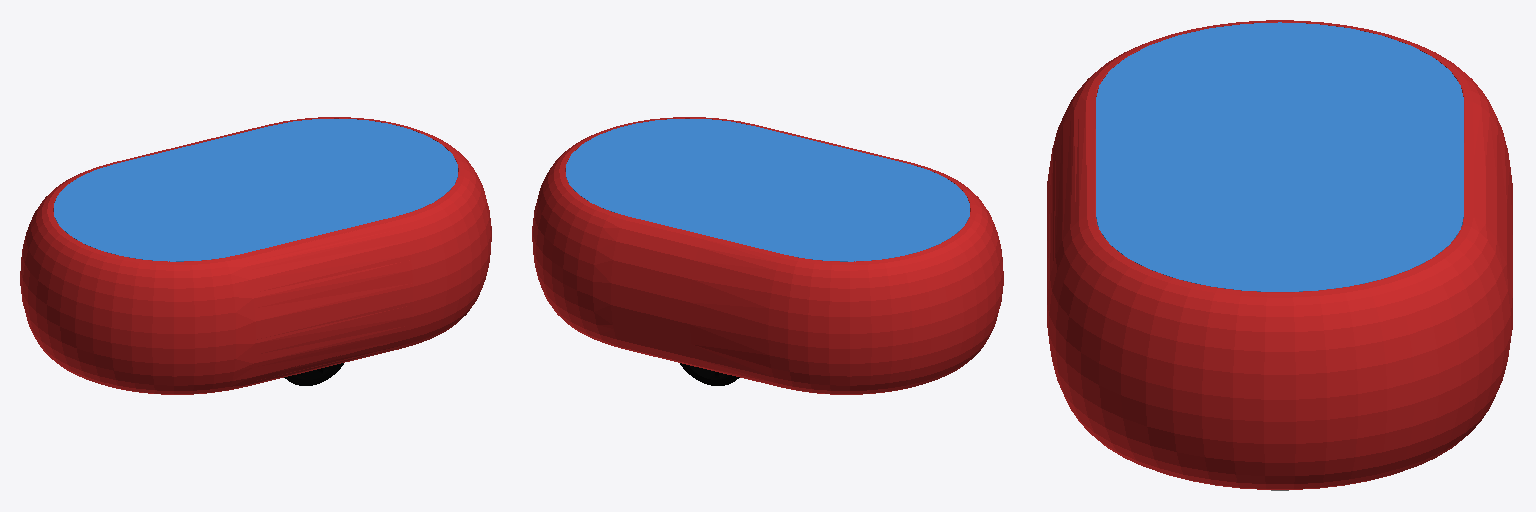
The robot description file, URDF, robot "mobile_robot":
<?xml version="1.0" encoding="utf-8"?>
<!-- This URDF was automatically created by SolidWorks to URDF Exporter! Originally created by [author] ([email redacted]) 
     Commit Version: 1.6.0-4-g7f85cfe  Build Version: 1.6.7995.38578
     For more information, please see http://wiki.ros.org/sw_urdf_exporter -->
<robot
  name="mobile_robot">
  <link
    name="base_link">
    <inertial>
      <origin
        xyz="-5.6012E-06 -2.2204E-16 0.042753"
        rpy="0 0 0" />
      <mass
        value="10.0" />
      <inertia
        ixx="1.8217"
        ixy="-9.2827E-16"
        ixz="-1.2537E-05"
        iyy="4.1378"
        iyz="-4.2401E-15"
        izz="5.2895" />
    </inertial>
    <visual>
      <origin
        xyz="0 0 0"
        rpy="0 0 0" />
      <geometry>
        <mesh filename="package://mobile_robot/meshes/base_link.STL" scale="1.0 1.0 1.0"/>
      </geometry>
      <material
        name="">
        <color
          rgba="0.2 0.5 0.8 1" />
      </material>
    </visual>
    <collision>
      <origin
        xyz="0 0 0.05"
        rpy="0 0 0" />
      <geometry>
        <box size="1.0 0.6 0.1"/>
      </geometry>
    </collision>
  </link>
  <link
    name="leftWheeltLink">
    <inertial>
      <origin
        xyz="3.8308E-13 1.763E-13 1.1203E-07"
        rpy="0 0 0" />
      <mass
        value="9.0457" />
      <inertia
        ixx="0.063134"
        ixy="-2.9772E-11"
        ixz="-7.331E-14"
        iyy="0.063134"
        iyz="1.2811E-14"
        izz="0.03752097" />
    </inertial>
    <visual>
      <origin
        xyz="0 0 0"
        rpy="1.5708 0 0" />
      <geometry>
        <mesh filename="package://mobile_robot/meshes/leftWheeltLink.STL" scale="1.0 1.0 1.0"/>
      </geometry>
      <material
        name="">
        <color
          rgba="0.0375 0.0375 0.0375 1" />
      </material>
    </visual>
    <collision>
      <origin
        xyz="0 0 0"
        rpy="1.5708 0 0" />
      <geometry>
        <cylinder radius="0.0375" length="0.05"/>
      </geometry>
      <surface>
        <friction>
          <ode>
            <mu>2.5</mu>
            <mu2>2.5</mu2>
            <fdir1>1 0 0</fdir1>
            <slip1>0.0</slip1>
            <slip2>0.0</slip2>
          </ode>
        </friction>
        <contact>
          <ode>
            <kp>1000000.0</kp>
            <kd>1000.0</kd>
            <min_depth>0.001</min_depth>
            <max_vel>10.0</max_vel>
          </ode>
        </contact>
      </surface>
    </collision>
  </link>
  <joint
    name="leftWheelJoint"
    type="continuous">
    <origin
      xyz="0 0.325 0.0375"
      rpy="0 0 0" />
    <parent
      link="base_link" />
    <child
      link="leftWheeltLink" />
    <axis
      xyz="0 1 0" />
    <limit
      effort="100"
      velocity="10" />
    <dynamics
      friction="0.1" 
      damping="0.5" />
  </joint>
  <link
    name="rightWheelLink">
    <inertial>
      <origin
        xyz="-8.5487E-14 -4.1323E-13 -1.1203E-07"
        rpy="0 0 0" />
      <mass
        value="9.0457" />
      <inertia
        ixx="0.063134"
        ixy="-2.941E-11"
        ixz="2.9021E-14"
        iyy="0.063134"
        iyz="-6.8537E-14"
        izz="0.03752097" />
    </inertial>
    <visual>
      <origin
        xyz="0 0 0"
        rpy="1.5708 0 0" />
      <geometry>
        <mesh filename="package://mobile_robot/meshes/rightWheelLink.STL" scale="1.0 1.0 1.0"/>
      </geometry>
      <material
        name="">
        <color
          rgba="0.0375 0.0375 0.0375 1" />
      </material>
    </visual>
    <collision>
      <origin
        xyz="0 0 0"
        rpy="1.5708 0 0" />
      <geometry>
        <cylinder radius="0.0375" length="0.05"/>
      </geometry>
      <surface>
        <friction>
          <ode>
            <mu>2.5</mu>
            <mu2>2.5</mu2>
            <fdir1>1 0 0</fdir1>
            <slip1>0.0</slip1>
            <slip2>0.0</slip2>
          </ode>
        </friction>
        <contact>
          <ode>
            <kp>1000000.0</kp>
            <kd>1000.0</kd>
            <min_depth>0.001</min_depth>
            <max_vel>10.0</max_vel>
          </ode>
        </contact>
      </surface>
    </collision>
  </link>
  <joint
    name="rightWheelJoint"
    type="continuous">
    <origin
      xyz="0 -0.325 0.0375"
      rpy="0 0 0" />
    <parent
      link="base_link" />
    <child
      link="rightWheelLink" />
    <axis
      xyz="0 1 0" />
    <limit
      effort="100"
      velocity="10" />
    <dynamics
      friction="0.1" 
      damping="0.5" />
  </joint>
  <link
    name="frontCasterLink">
    <inertial>
      <origin
        xyz="1.1102E-16 -4.4409E-16 0.095922"
        rpy="0 0 0" />
      <mass
        value="7.8759" />
      <inertia
        ixx="0.053362"
        ixy="-1.0187E-17"
        ixz="-2.0544E-17"
        iyy="0.053362"
        iyz="1.0521E-18"
        izz="0.046393" />
    </inertial>
    <visual>
      <origin
        xyz="0 0 0"
        rpy="0 0 0" />
      <geometry>
        <mesh filename="package://mobile_robot/meshes/frontCasterLink.STL" scale="1.0 1.0 1.0"/>
      </geometry>
      <material
        name="">
        <color
          rgba="0.6 0.6 0.6 1" />
      </material>
    </visual>
    <collision>
      <origin
        xyz="0 0 0.05"
        rpy="0 0 0" />
      <geometry>
        <cylinder radius="0.025" length="0.1"/>
      </geometry>
      <surface>
        <friction>
          <ode>
            <mu>0.01</mu>
            <mu2>0.01</mu2>
            <slip1>0.5</slip1>
            <slip2>0.5</slip2>
          </ode>
        </friction>
        <contact>
          <ode>
            <kp>100000.0</kp>
            <kd>100.0</kd>
            <min_depth>0.001</min_depth>
            <max_vel>5.0</max_vel>
          </ode>
        </contact>
      </surface>
    </collision>
  </link>
  <joint
    name="frontCasterJoint"
    type="fixed">
    <origin
      xyz="0.5 0 -0.04875"
      rpy="0 0 0" />
    <parent
      link="base_link" />
    <child
      link="frontCasterLink" />
    <axis
      xyz="0 0 0" />
  </joint>
  <link
    name="backCasterLink">
    <inertial>
      <origin
        xyz="0 -4.4409E-16 0.095922"
        rpy="0 0 0" />
      <mass
        value="7.8759" />
      <inertia
        ixx="0.053362"
        ixy="-1.5412E-17"
        ixz="-1.1772E-18"
        iyy="0.053362"
        iyz="3.1146E-17"
        izz="0.046393" />
    </inertial>
    <visual>
      <origin
        xyz="0 0 0"
        rpy="0 0 0" />
      <geometry>
        <mesh filename="package://mobile_robot/meshes/backCasterLink.STL" scale="1.0 1.0 1.0"/>
      </geometry>
      <material
        name="">
        <color
          rgba="0.5 0.5 0.5 1" />
      </material>
    </visual>
    <collision>
      <origin
        xyz="0 0 0.05"
        rpy="0 0 0" />
      <geometry>
        <cylinder radius="0.025" length="0.1"/>
      </geometry>
      <surface>
        <friction>
          <ode>
            <mu>0.01</mu>
            <mu2>0.01</mu2>
            <slip1>0.5</slip1>
            <slip2>0.5</slip2>
          </ode>
        </friction>
        <contact>
          <ode>
            <kp>100000.0</kp>
            <kd>100.0</kd>
            <min_depth>0.001</min_depth>
            <max_vel>5.0</max_vel>
          </ode>
        </contact>
      </surface>
    </collision>
  </link>
  <joint
    name="backCasterJoint"
    type="fixed">
    <origin
      xyz="-0.5 0 -0.04875"
      rpy="0 0 0" />
    <parent
      link="base_link" />
    <child
      link="backCasterLink" />
    <axis
      xyz="0 0 0" />
  </joint>
  <link
    name="outerBodyLink">
    <inertial>
      <origin
        xyz="-0.56025 -3.3138E-06 4.754E-05"
        rpy="0 0 0" />
      <mass
        value="65.655" />
      <inertia
        ixx="9.0515"
        ixy="2.6889E-06"
        ixz="2.3746E-14"
        iyy="16.608"
        iyz="-1.9865E-14"
        izz="23.47" />
    </inertial>
    <visual>
      <origin
        xyz="0 0 0"
        rpy="0 0 0" />
      <geometry>
        <mesh filename="package://mobile_robot/meshes/outerBodyLink.STL" scale="1.0 1.0 1.0"/>
      </geometry>
      <material
        name="">
        <color
          rgba="0.8 0.2 0.2 1" />
      </material>
    </visual>
    <collision>
      <origin
        xyz="-0.5 0 0.03755"
        rpy="0 0 0" />
      <geometry>
        <box size="1.0 0.8 0.3"/>
      </geometry>
    </collision>
  </link>
  <joint
    name="outerBodyJoint"
    type="fixed">
    <origin
      xyz="0.56025 0 0.19001"
      rpy="0 0 0" />
    <parent
      link="base_link" />
    <child
      link="outerBodyLink" />
    <axis
      xyz="0 0 0" />
  </joint>
  <link
    name="trayLink">
    <inertial>
      <origin
        xyz="-2.8311E-15 2.2204E-16 -0.054663"
        rpy="0 0 0" />
      <mass
        value="11.9" />
      <inertia
        ixx="0.6236"
        ixy="3.5237E-16"
        ixz="6.3071E-16"
        iyy="1.5154"
        iyz="-1.2715E-15"
        izz="1.924" />
    </inertial>
    <visual>
      <origin
        xyz="0 0 0"
        rpy="0 0 0" />
      <geometry>
        <mesh filename="package://mobile_robot/meshes/trayLink.STL" scale="1.0 1.0 1.0"/>
      </geometry>
      <material
        name="">
        <color
          rgba="0.3 0.6 0.9 1" />
      </material>
    </visual>
    <collision>
      <origin
        xyz="0 0 -0.05"
        rpy="0 0 0" />
      <geometry>
        <box size="0.6 1.0 0.0375"/>
      </geometry>
    </collision>
  </link>
  <joint
    name="trayJoint"
    type="prismatic">
    <origin
      xyz="0 0 0.41"
      rpy="0 0 0" />
    <parent
      link="base_link" />
    <child
      link="trayLink" />
    <axis
      xyz="0 0 1" />
    <limit
      lower="0"
      upper="0.25"
      effort="1000"
      velocity="1.0" />
    <dynamics
      friction="0.0375"
      damping="10.0" />
  </joint>

  <!-- Gazebo plugins for ROS2 Jazzy & Gazebo Ionic -->
  
  <!-- Physics System - MUST BE FIRST -->
  <gazebo>
    <plugin filename="gz-sim-physics-system" name="gz::sim::systems::Physics">
      <engine>
        <filename>gz-physics-dartsim-plugin</filename>
      </engine>
    </plugin>
  </gazebo>
  
  <!-- Scene Broadcaster System -->
  <gazebo>
    <plugin filename="gz-sim-scene-broadcaster-system" name="gz::sim::systems::SceneBroadcaster"/>
  </gazebo>
  
  <!-- Differential Drive Plugin -->
  <gazebo>
    <plugin filename="gz-sim-diff-drive-system" name="gz::sim::systems::DiffDrive">
      <left_joint>leftWheelJoint</left_joint>
      <right_joint>rightWheelJoint</right_joint>
      <wheel_separation>0.65</wheel_separation>
      <wheel_radius>0.0375</wheel_radius>
      <odom_publish_frequency>50</odom_publish_frequency>
      <max_wheel_torque>50</max_wheel_torque>
      <max_wheel_acceleration>2.0</max_wheel_acceleration>
      <max_wheel_velocity>5.0</max_wheel_velocity>
      <topic>cmd_vel</topic>
      <odom_topic>odom</odom_topic>
      <frame_id>odom</frame_id>
      <child_frame_id>base_link</child_frame_id>
      <tf_topic>tf</tf_topic>
      <publish_odom_tf>true</publish_odom_tf>
      <use_encoder_data>true</use_encoder_data>
      <publish_wheel_joints>true</publish_wheel_joints>
    </plugin>
  </gazebo>
  
  <!-- Joint State Publisher Plugin -->
  <gazebo>
    <plugin filename="gz-sim-joint-state-publisher-system" name="gz::sim::systems::JointStatePublisher">
      <joint_name>leftWheelJoint</joint_name>
      <joint_name>rightWheelJoint</joint_name>
      <joint_name>trayJoint</joint_name>
      <topic>joint_states</topic>
      <update_rate>50</update_rate>
    </plugin>
  </gazebo>
  
  <!-- Joint Position Controller for Tray -->
  <gazebo>
    <plugin filename="gz-sim-joint-position-controller-system" name="gz::sim::systems::JointPositionController">
      <joint_name>trayJoint</joint_name>
      <topic>tray_position_cmd</topic>
      <p_gain>1000</p_gain>
      <i_gain>100</i_gain>
      <d_gain>10</d_gain>
      <i_max>1</i_max>
      <i_min>-1</i_min>
      <cmd_max>1000</cmd_max>
      <cmd_min>-1000</cmd_min>
      <initial_position>0</initial_position>
    </plugin>
  </gazebo>

  <!-- Gazebo material properties -->
  <gazebo reference="base_link">
    <material>Gazebo/Blue</material>
    <mu1>0.2</mu1>
    <mu2>0.2</mu2>
    <kp>1000000.0</kp>
    <kd>100.0</kd>
    <selfCollide>false</selfCollide>
    <kinematic>false</kinematic>
    <static>false</static>
  </gazebo>

  <gazebo reference="leftWheeltLink">
    <material>Gazebo/Black</material>
    <mu1>2.5</mu1>
    <mu2>2.5</mu2>
    <kp>1000000.0</kp>
    <kd>1000.0</kd>
    <minDepth>0.001</minDepth>
    <maxVel>10.0</maxVel>
    <fdir1>1 0 0</fdir1>
    <selfCollide>false</selfCollide>
    <static>false</static>
    <slip1>0.0</slip1>
    <slip2>0.0</slip2>
  </gazebo>

  <gazebo reference="rightWheelLink">
    <material>Gazebo/Black</material>
    <mu1>2.5</mu1>
    <mu2>2.5</mu2>
    <kp>1000000.0</kp>
    <kd>1000.0</kd>
    <minDepth>0.001</minDepth>
    <maxVel>10.0</maxVel>
    <fdir1>1 0 0</fdir1>
    <selfCollide>false</selfCollide>
    <static>false</static>
    <slip1>0.0</slip1>
    <slip2>0.0</slip2>
  </gazebo>

  <gazebo reference="frontCasterLink">
    <material>Gazebo/Grey</material>
    <mu1>0.0001</mu1>
    <mu2>0.0001</mu2>
    <kp>1000.0</kp>
    <kd>10.0</kd>
    <selfCollide>false</selfCollide>
    <static>false</static>
  </gazebo>

  <gazebo reference="backCasterLink">
    <material>Gazebo/Grey</material>
    <mu1>0.0001</mu1>
    <mu2>0.0001</mu2>
    <kp>1000.0</kp>
    <kd>10.0</kd>
    <selfCollide>false</selfCollide>
    <static>false</static>
  </gazebo>

  <gazebo reference="outerBodyLink">
    <material>Gazebo/Red</material>
    <mu1>0.2</mu1>
    <mu2>0.2</mu2>
    <selfCollide>true</selfCollide>
    <static>false</static>
  </gazebo>

  <gazebo reference="trayLink">
    <material>Gazebo/Blue</material>
    <mu1>0.2</mu1>
    <mu2>0.2</mu2>
    <selfCollide>true</selfCollide>
    <static>false</static>
  </gazebo>

</robot>

--- What the picture shows (computed from the rendered views, not written in the file) ---
3 views of the same robot in one strip: view 1: azimuth 30°, elevation 25°; view 2: azimuth 150°, elevation 25°; view 3: azimuth 270°, elevation 25° (orthographic).
Model mobile_robot with 7 links and 6 joints (2 continuous, 1 prismatic, 3 fixed), rooted at base_link, posed every joint at zero.
Links seen in each view (by area): view 1: outerBodyLink, trayLink, rightWheelLink; view 2: outerBodyLink, trayLink, leftWheeltLink; view 3: outerBodyLink, trayLink.
Boxes of the visible links, left/top/right/bottom form: outerBodyLink: left=20, top=117, right=491, bottom=394; trayLink: left=54, top=119, right=457, bottom=261; rightWheelLink: left=284, top=363, right=343, bottom=385; outerBodyLink: left=532, top=117, right=1003, bottom=394; trayLink: left=566, top=119, right=969, bottom=261; leftWheeltLink: left=680, top=363, right=739, bottom=385; outerBodyLink: left=1047, top=20, right=1512, bottom=489; trayLink: left=1096, top=22, right=1463, bottom=291.
Size in the robot's own frame: 1.5 by 0.9487 by 0.5075 metres.
7 mesh visuals loaded from 7 distinct referenced files (7 binary STL).
